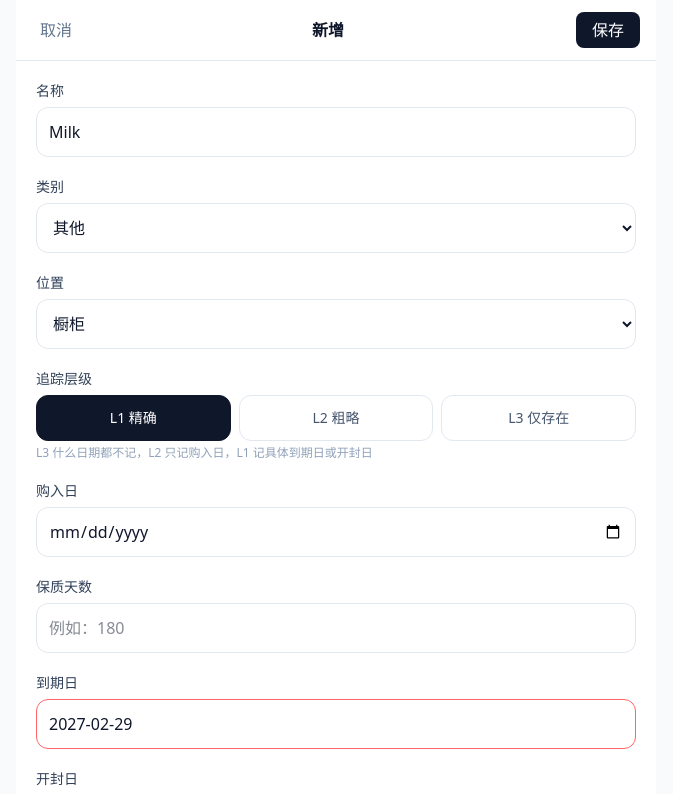
invalid date submission prevention › rejects nonexistent date 2027-02-29 and displays an error
The image size is (673, 794).
What coordinates should you click on to do the following:
click the button "保存"
I would click on:
 (608, 30)
Its box is x1=576 y1=12 x2=640 y2=48.
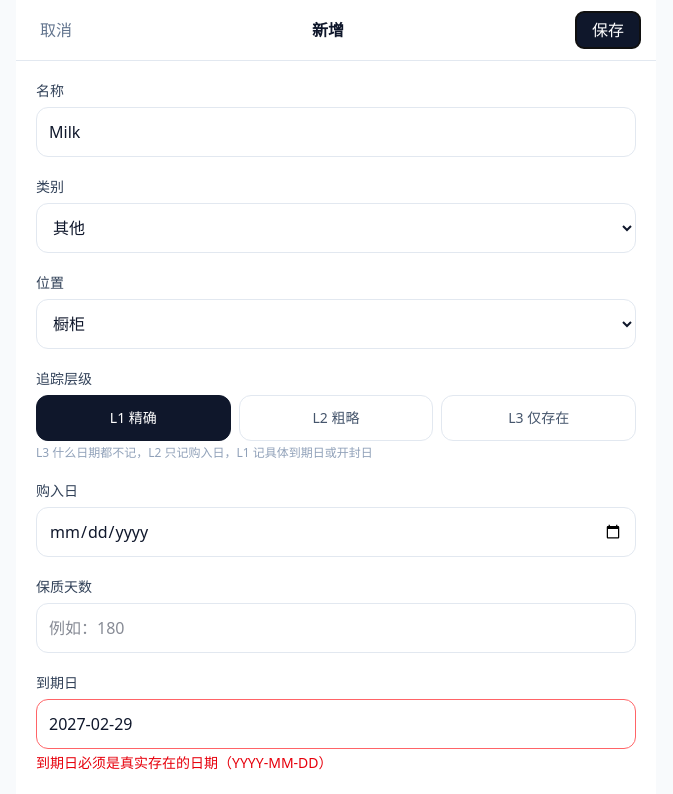
Expected: the message shows "真实存在的日期", x1=36 y1=753 x2=332 y2=772
